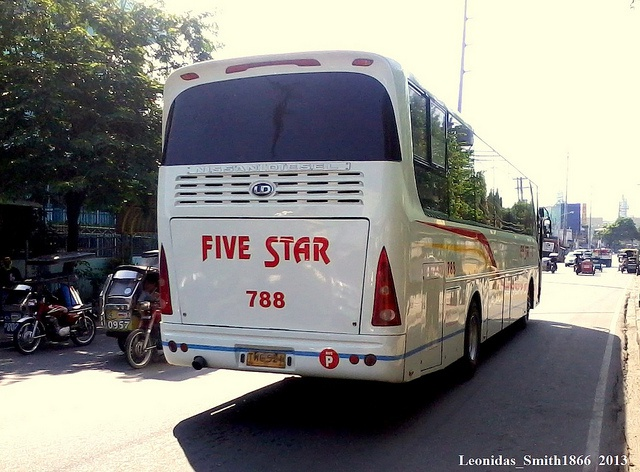non-vehicle: (95, 247, 160, 380), (11, 278, 97, 357), (547, 260, 556, 275), (574, 259, 581, 275)
